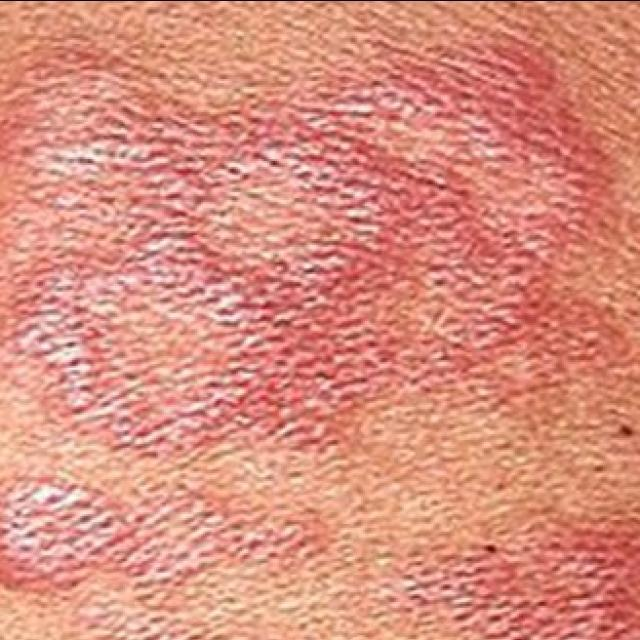Leprosy: (0, 10, 609, 452), (0, 459, 300, 613), (378, 480, 640, 640), (65, 607, 312, 640)
